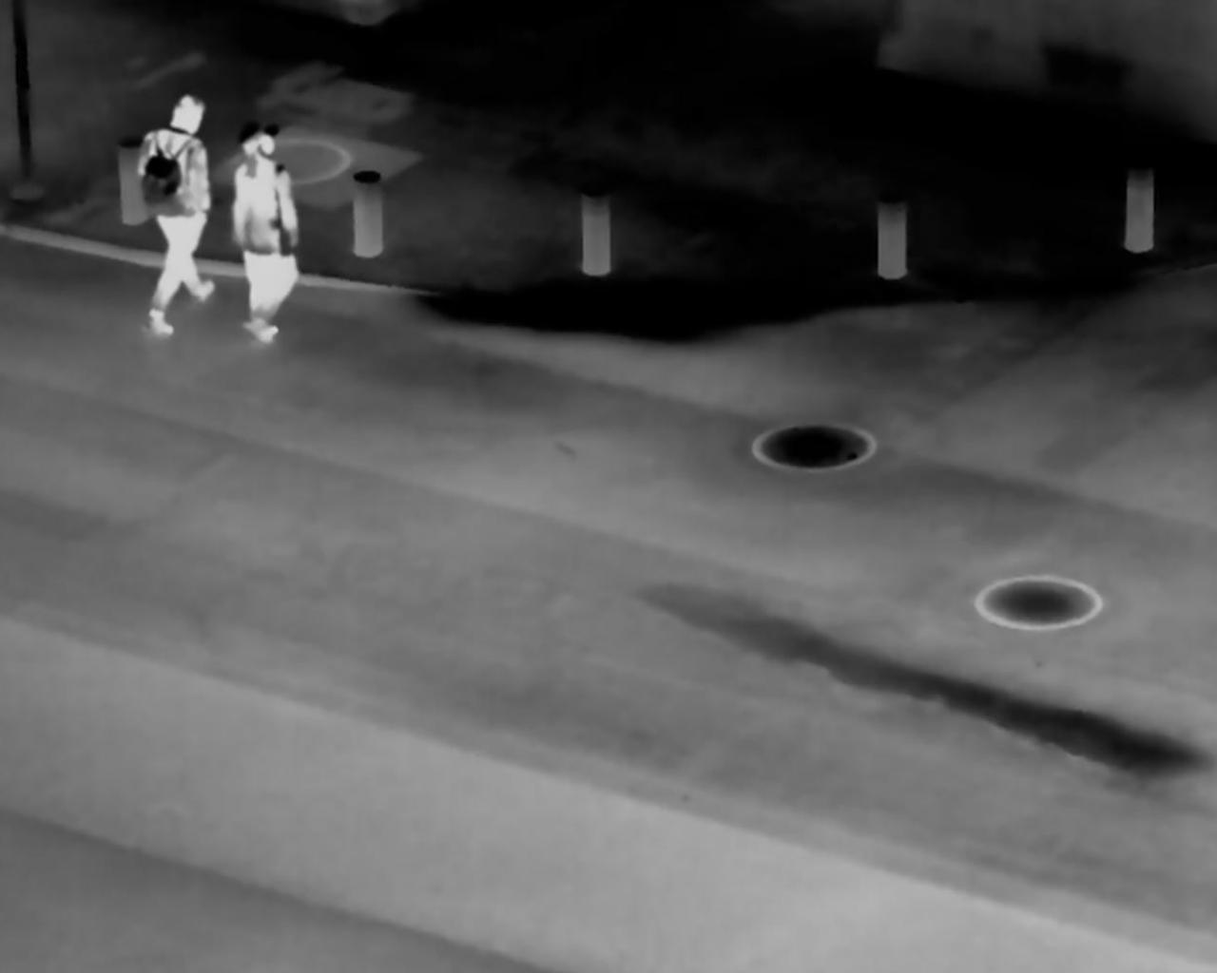person: (126, 81, 219, 334), (219, 111, 305, 354)
